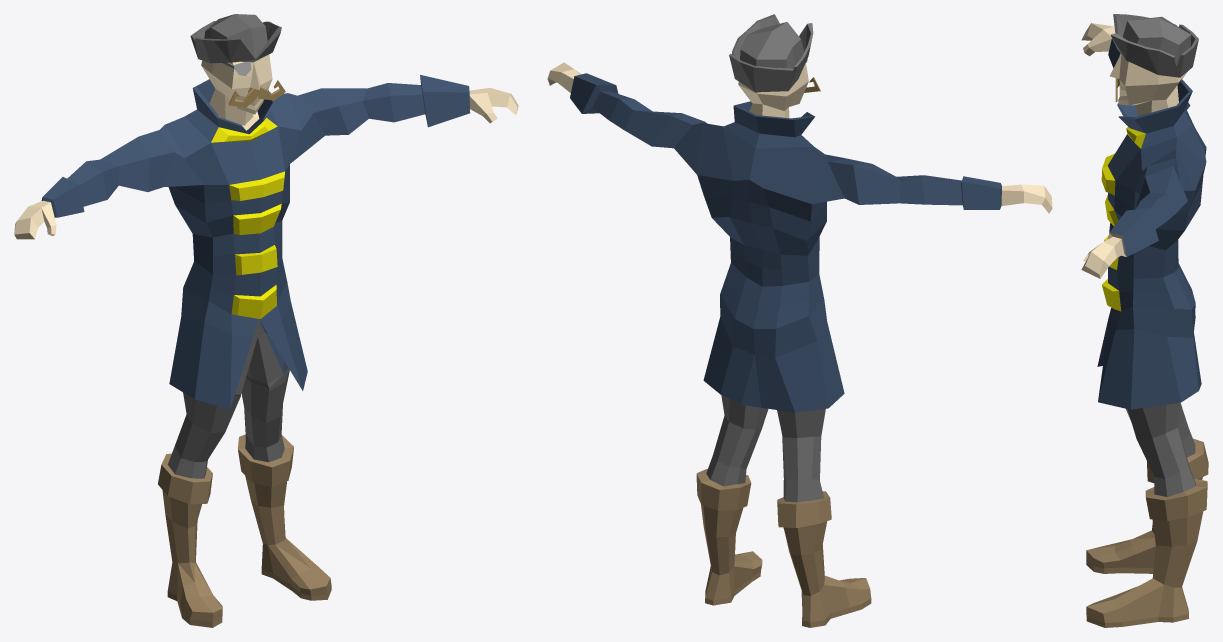
Rendered from Pirata 4.fbx.
The picture shows the model from 3 angles, left to right: view 1: azimuth 30°, elevation 25°; view 2: azimuth 150°, elevation 25°; view 3: azimuth 270°, elevation 25°; orthographic projection.
Visible parts, largest first — view 1: Circle; view 2: Circle; view 3: Circle.
Part boxes in pixels (<box>): Circle: <box>14,14,518,627</box>; Circle: <box>547,14,1052,627</box>; Circle: <box>1081,14,1208,627</box>.
Bounding box in the file's own units: 177 × 193 × 38.63.
